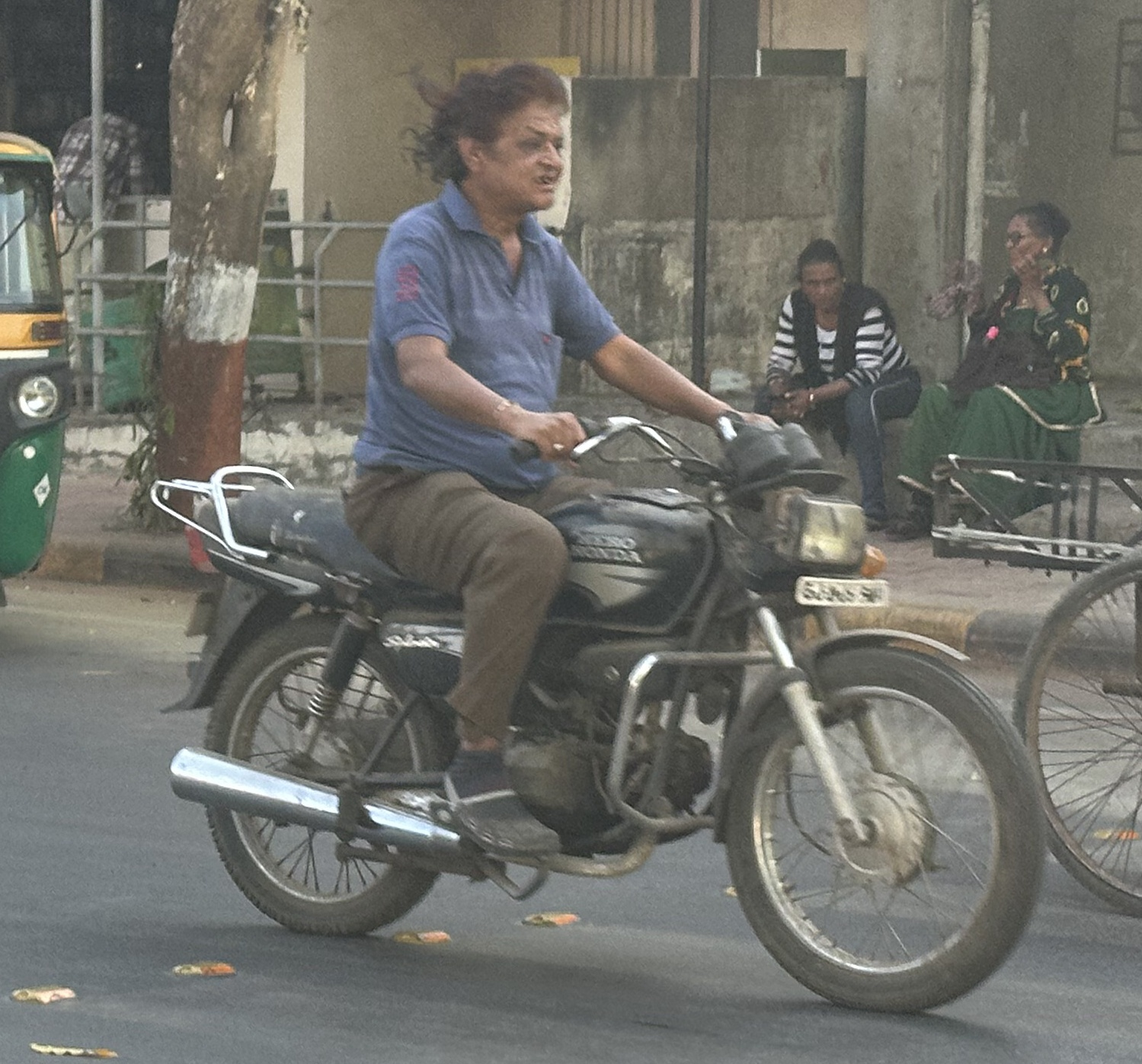BikeWithRider: (144, 59, 1046, 1016)
NoHelmet: (420, 62, 581, 222)
